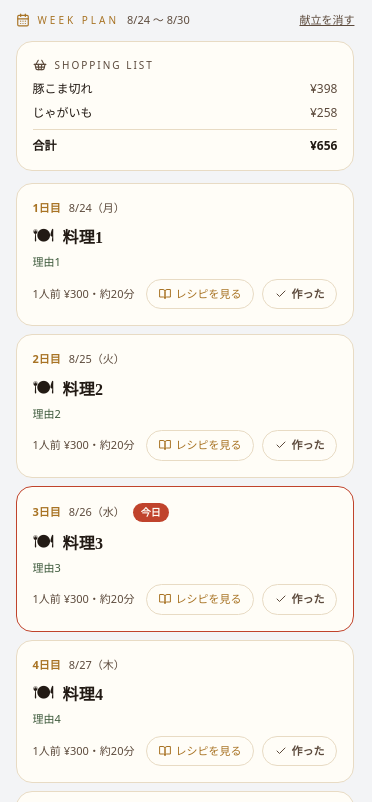
Test: WeekPlanView — discarding the plan › keeps the plan when cancelled
Click the button "献立を消す" at (327,20), box x1=300 y1=12 x2=354 y2=28
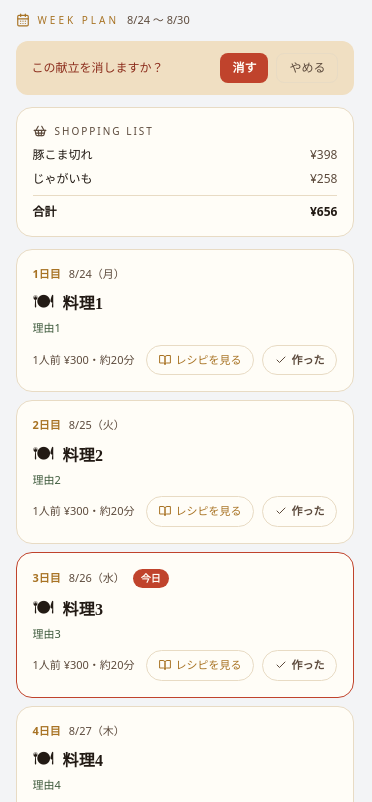
Click the button "やめる" at (307,68), box x1=276 y1=52 x2=338 y2=82
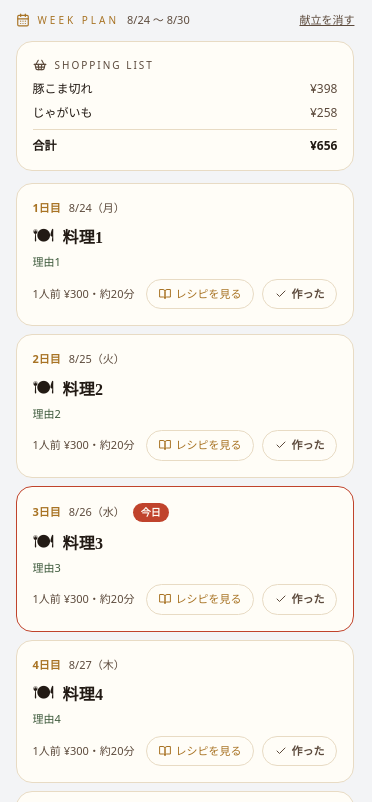
Result: the button "献立を消す" is shown at x1=300 y1=12 x2=354 y2=28
